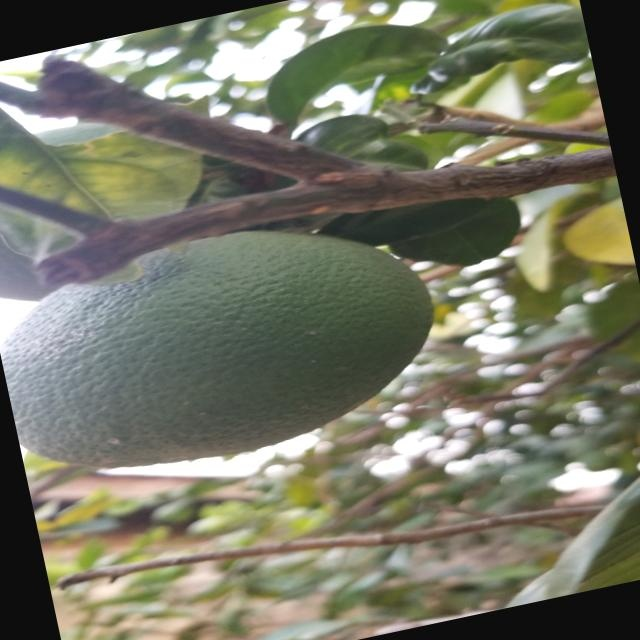agrume: (0, 188, 465, 494)
